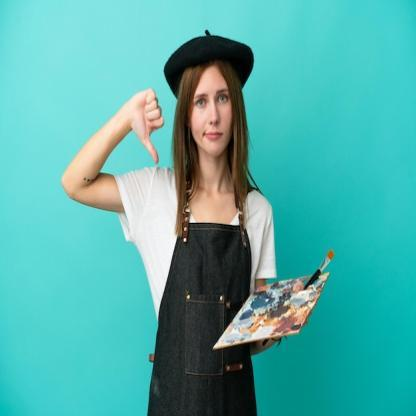thumb_down: (128, 86, 166, 165)
